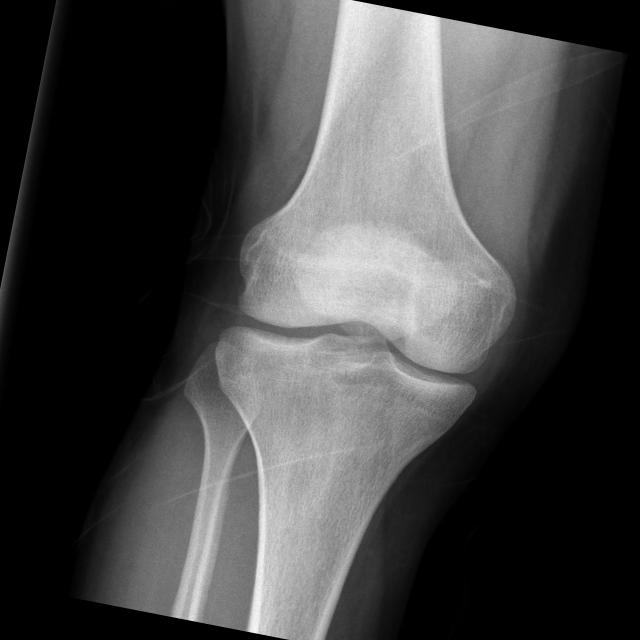Knee: (203, 194, 529, 453)
